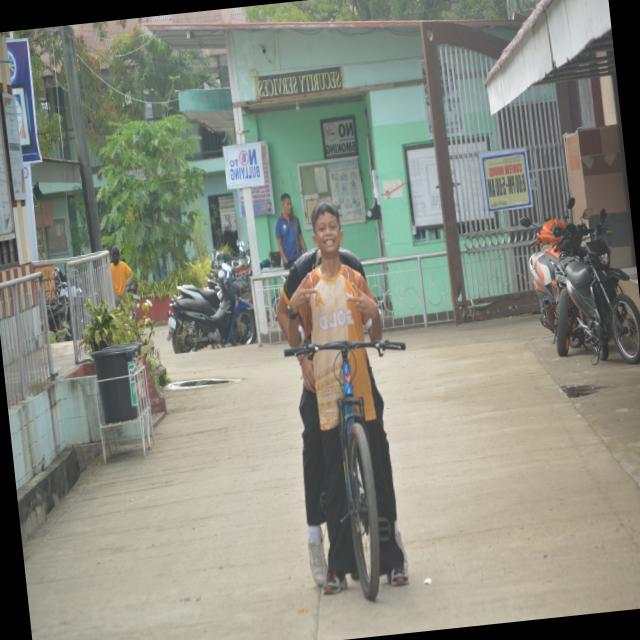person: (313, 351, 356, 594), (298, 357, 326, 586), (274, 193, 305, 269), (110, 246, 133, 307)
